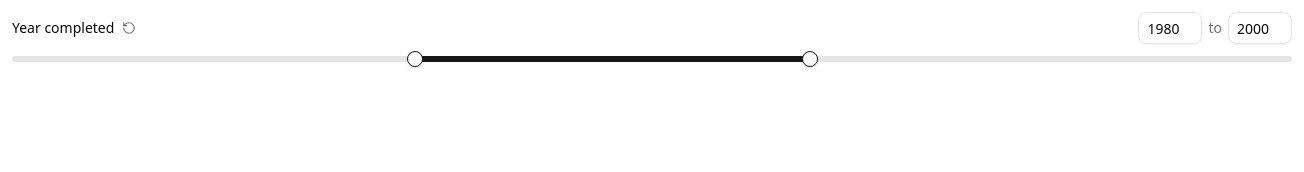
a typed from above to is pulled down to to
The image size is (1304, 172).
Replace the text in the number field named "Year completed, from" with "2010": point(1170, 28) x1=1138 y1=12 x2=1202 y2=44
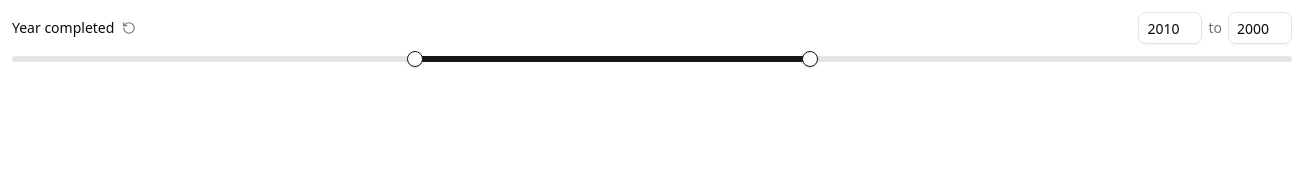
Press Enter in the number field named "Year completed, from", box x1=1138 y1=12 x2=1202 y2=44
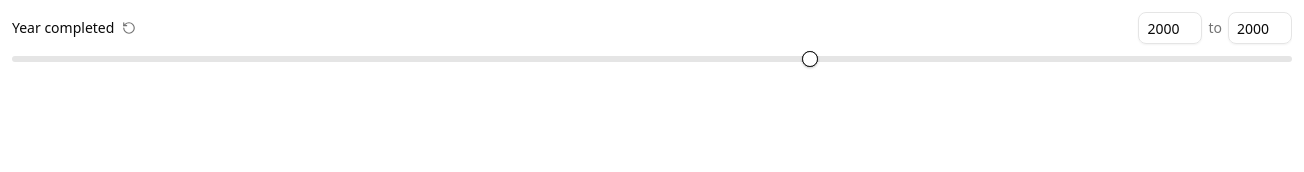
Expected: the number field named "Year completed, from" holds "2000", x1=1138 y1=12 x2=1202 y2=44
